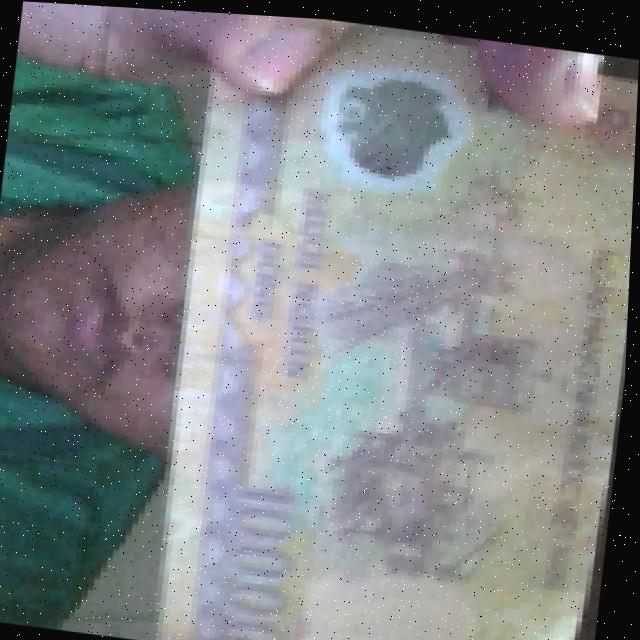10 000 VND: (145, 8, 640, 640)
